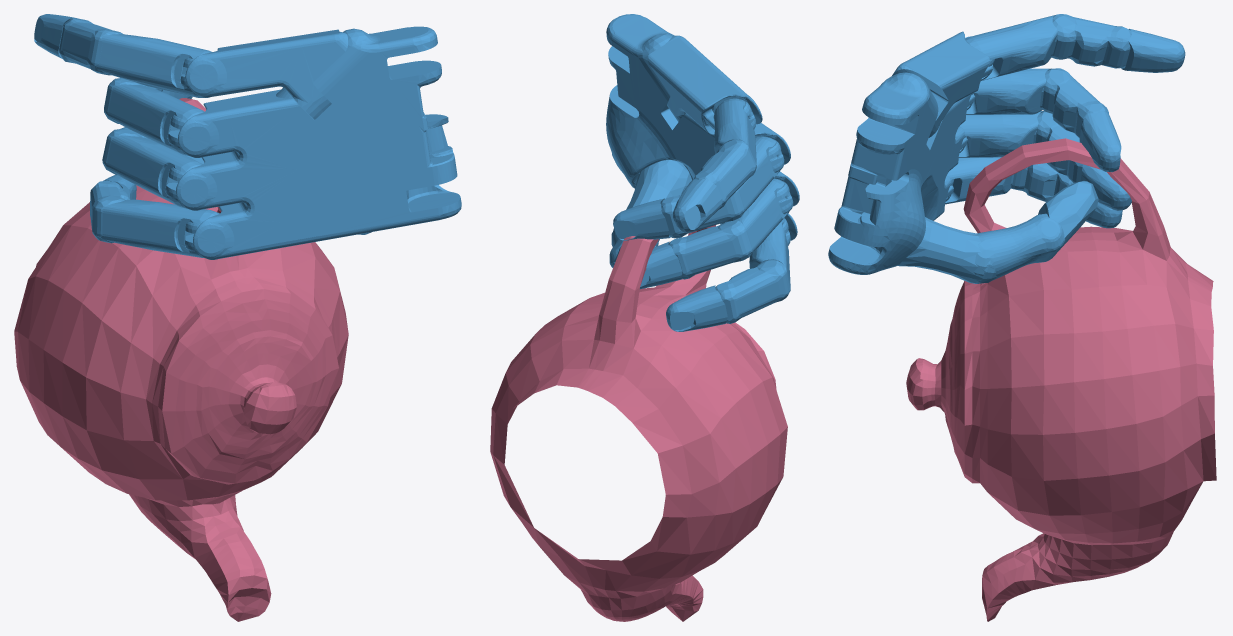
3 renders of one model, left to right at view 1: azimuth 30°, elevation 25°; view 2: azimuth 150°, elevation 25°; view 3: azimuth 270°, elevation 25°, orthographic. The views are drawn at different scales.
Visible parts, largest first — view 1: 9; view 2: 9; view 3: 9.
Part boxes in pixels (x1,y1,x2,y2): 9: (14,14,461,621); 9: (490,14,799,621); 9: (828,14,1216,621).
Bounding box in the file's own units: 0.139 × 0.2772 × 0.1698.
